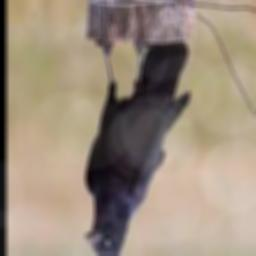Crow: (83, 42, 190, 256)
